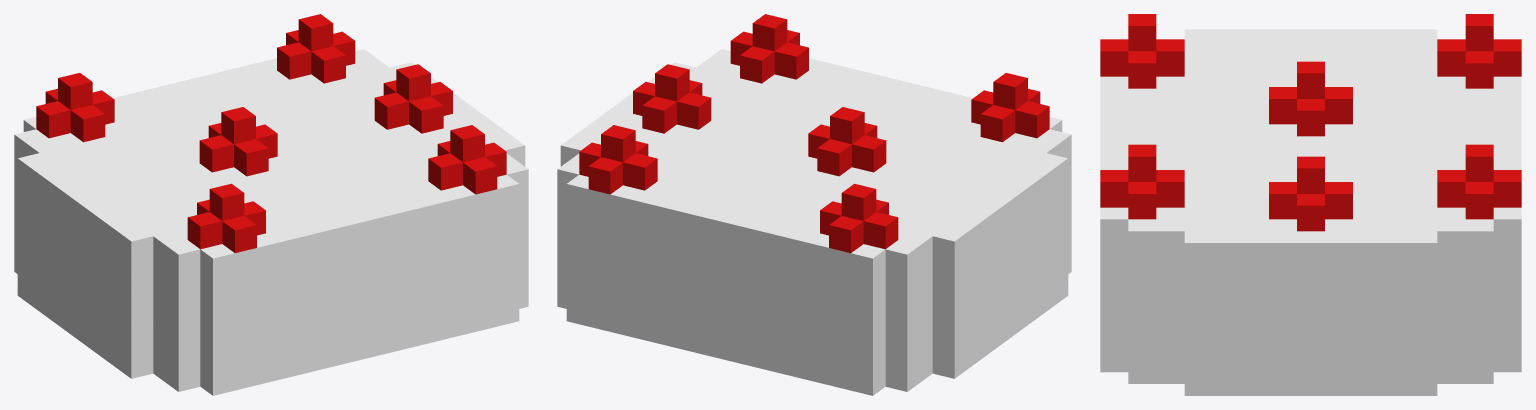
File: Cake small.gltf
The picture shows the model from 3 angles, left to right: view 1: azimuth 30°, elevation 25°; view 2: azimuth 150°, elevation 25°; view 3: azimuth 270°, elevation 25°; orthographic projection. The views are drawn at different scales.
Visible parts, largest first — view 1: Layer.1; view 2: Layer.1; view 3: Layer.1.
Part boxes in pixels (x1,y1,x2,y2): Layer.1: (14,14,528,395); Layer.1: (557,14,1071,395); Layer.1: (1100,14,1521,395).
Size of the model in its own units: 18 by 8 by 15.
1 material, 1 textured.
